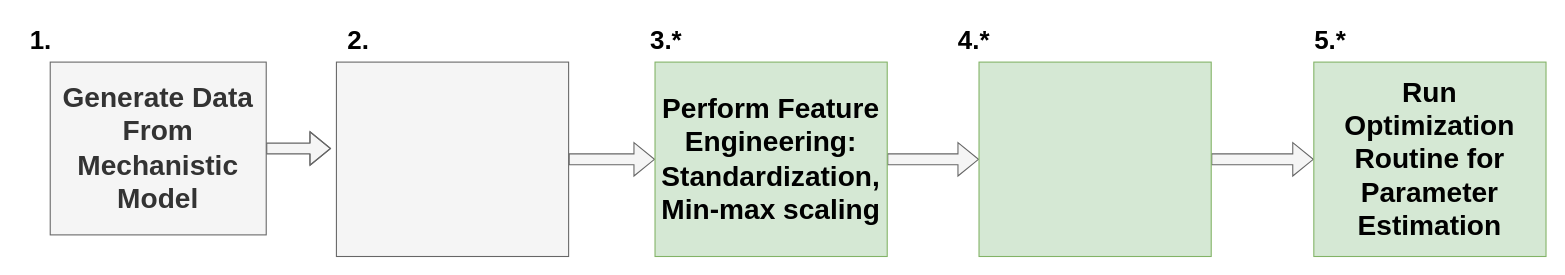
This 1565x275 diagram has some shape labels left out. Each missing label, with the centre of its shape:
"Process Data From Mechanistic Model Into a Readable Format" goes at (452,158).
"Train a Surrogate Model" goes at (1094,158).
